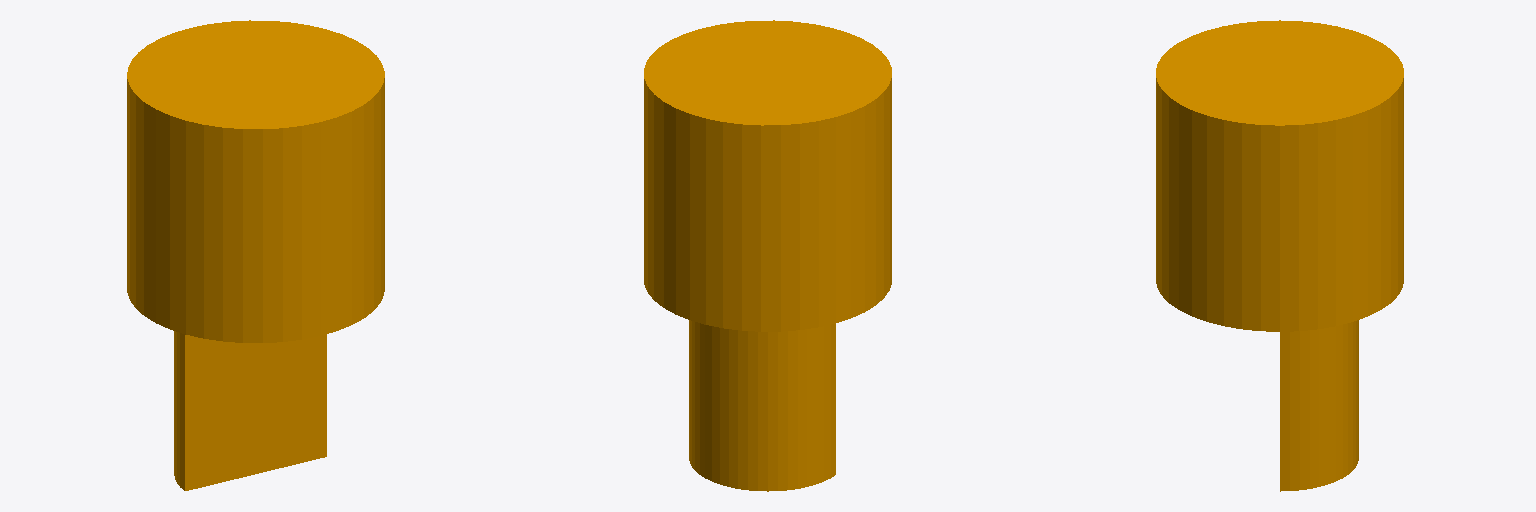
The robot description file, URDF, robot "peg_semicircle":
<?xml version='1.0' encoding='utf-8'?>
<robot name="peg_semicircle">
  <link name="body">
    <inertial>
      <origin xyz="7.332506861980956e-19 0.0016369790079235227 0.0921008058733613" />
      <mass value="0.12" />
      <inertia ixx="0.00017399075290717357" iyy="0.00017431231693985948" izz="9.121066340620222e-05" ixy="1.629584762467189e-21" ixz="1.5645964550762326e-20" iyz="1.1707832168402111e-05" />
    </inertial>
    <collision>
      <geometry>
        <mesh filename="part_00.obj" />
      </geometry>
    </collision>
    <collision>
      <geometry>
        <mesh filename="part_01.obj" />
      </geometry>
    </collision>
    <visual>
      <geometry>
        <mesh filename="visual.obj" />
      </geometry>
    </visual>
  </link>
</robot>

--- What the picture shows (computed from the rendered views, not written in the file) ---
Views: 3 orthographic renders of the robot side by side, from view 1: azimuth 30°, elevation 25°; view 2: azimuth 150°, elevation 25°; view 3: azimuth 270°, elevation 25°.
Model peg_semicircle with 1 links and 0 joints (none), rooted at body, posed all joints at 0.
Links seen in each view (by area): view 1: body; view 2: body; view 3: body.
Link boxes in pixels (<box>): body: <box>127,20,384,490</box>; body: <box>644,20,891,491</box>; body: <box>1156,20,1403,491</box>.
Bounding box of the posed robot: 0.082 × 0.082 × 0.14 m (x, y, z).
1 mesh visuals loaded from 1 distinct referenced files (1 OBJ).
